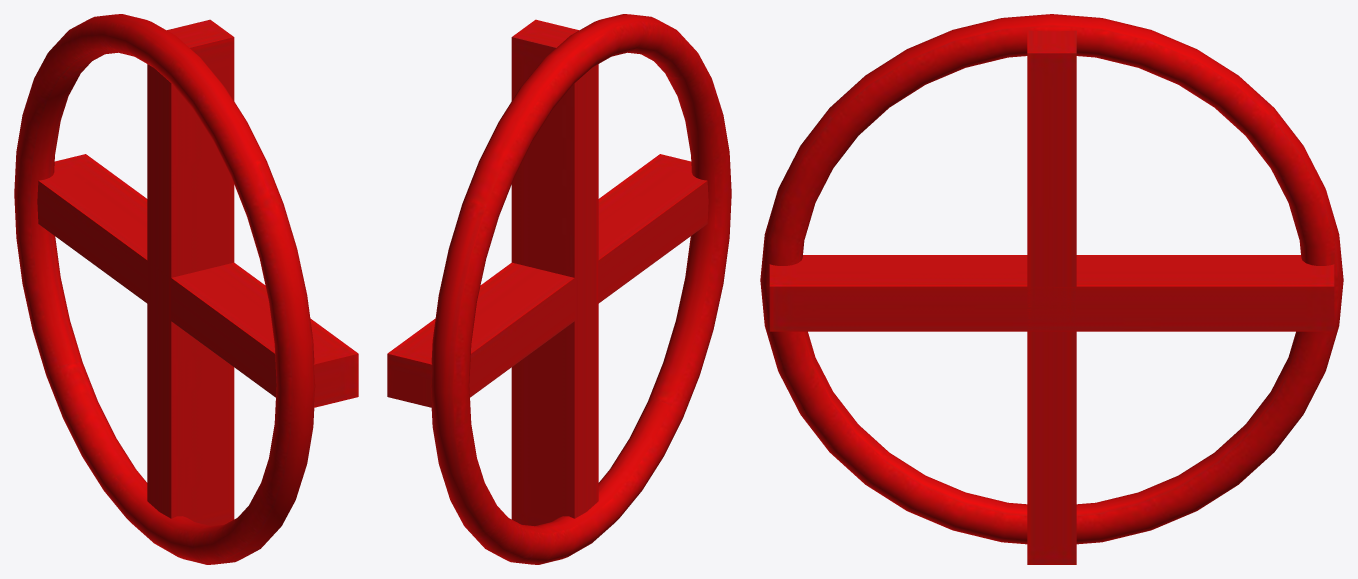
The model's file is Aim.fbx.
3 renders of one model, left to right at view 1: azimuth 30°, elevation 25°; view 2: azimuth 150°, elevation 25°; view 3: azimuth 270°, elevation 25°, orthographic. The views are drawn at different scales.
Parts seen in each view (by area): view 1: Torus_1; view 2: Torus_1; view 3: Torus_1.
Boxes of the visible parts, <box> form: Torus_1: <box>14,14,358,564</box>; Torus_1: <box>387,14,731,564</box>; Torus_1: <box>760,14,1343,564</box>.
Bounding box in the file's own units: 8.8 × 58 × 58.
Materials: 1 (1 with a texture image).
